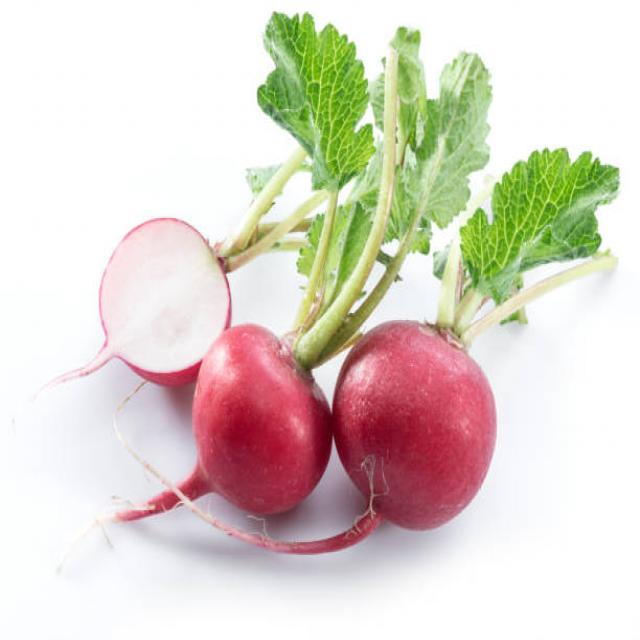Spinach bagged/loose: (83, 157, 512, 554)
